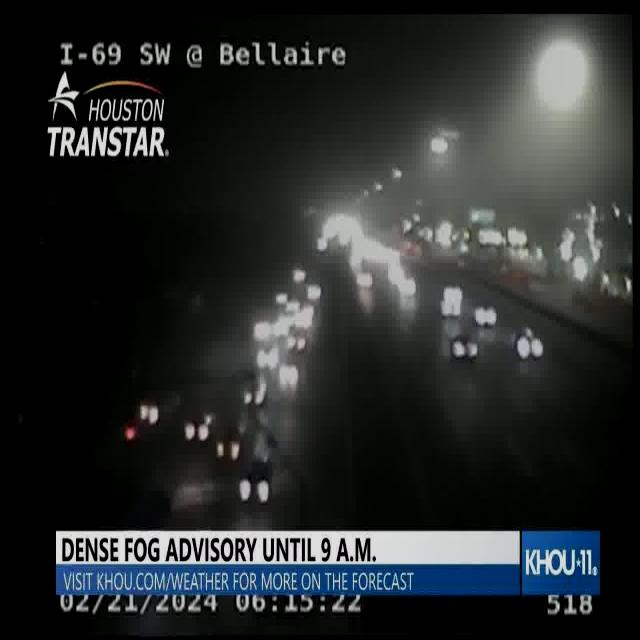Car: (238, 455, 272, 509), (184, 405, 213, 449), (513, 325, 546, 358), (214, 427, 242, 464), (240, 375, 266, 410), (138, 394, 162, 429), (449, 336, 476, 360), (474, 305, 498, 330), (278, 361, 298, 390)
